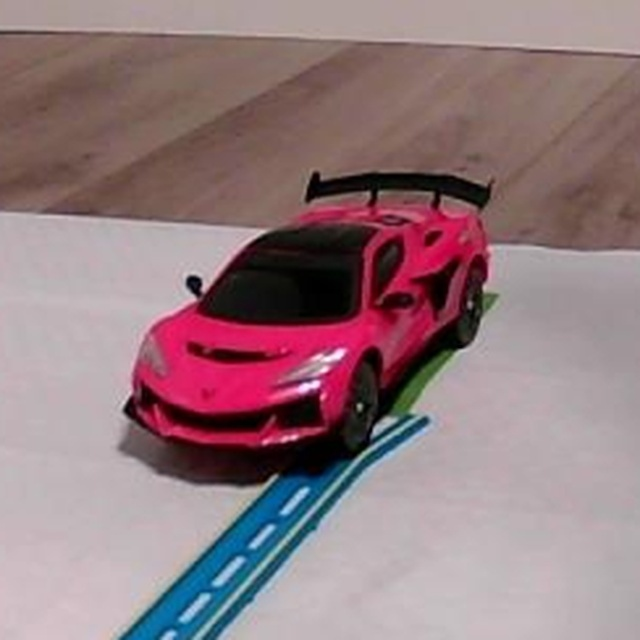tire_front_driver: (345, 365, 385, 450)
tire_rear_driver: (448, 290, 488, 345)
